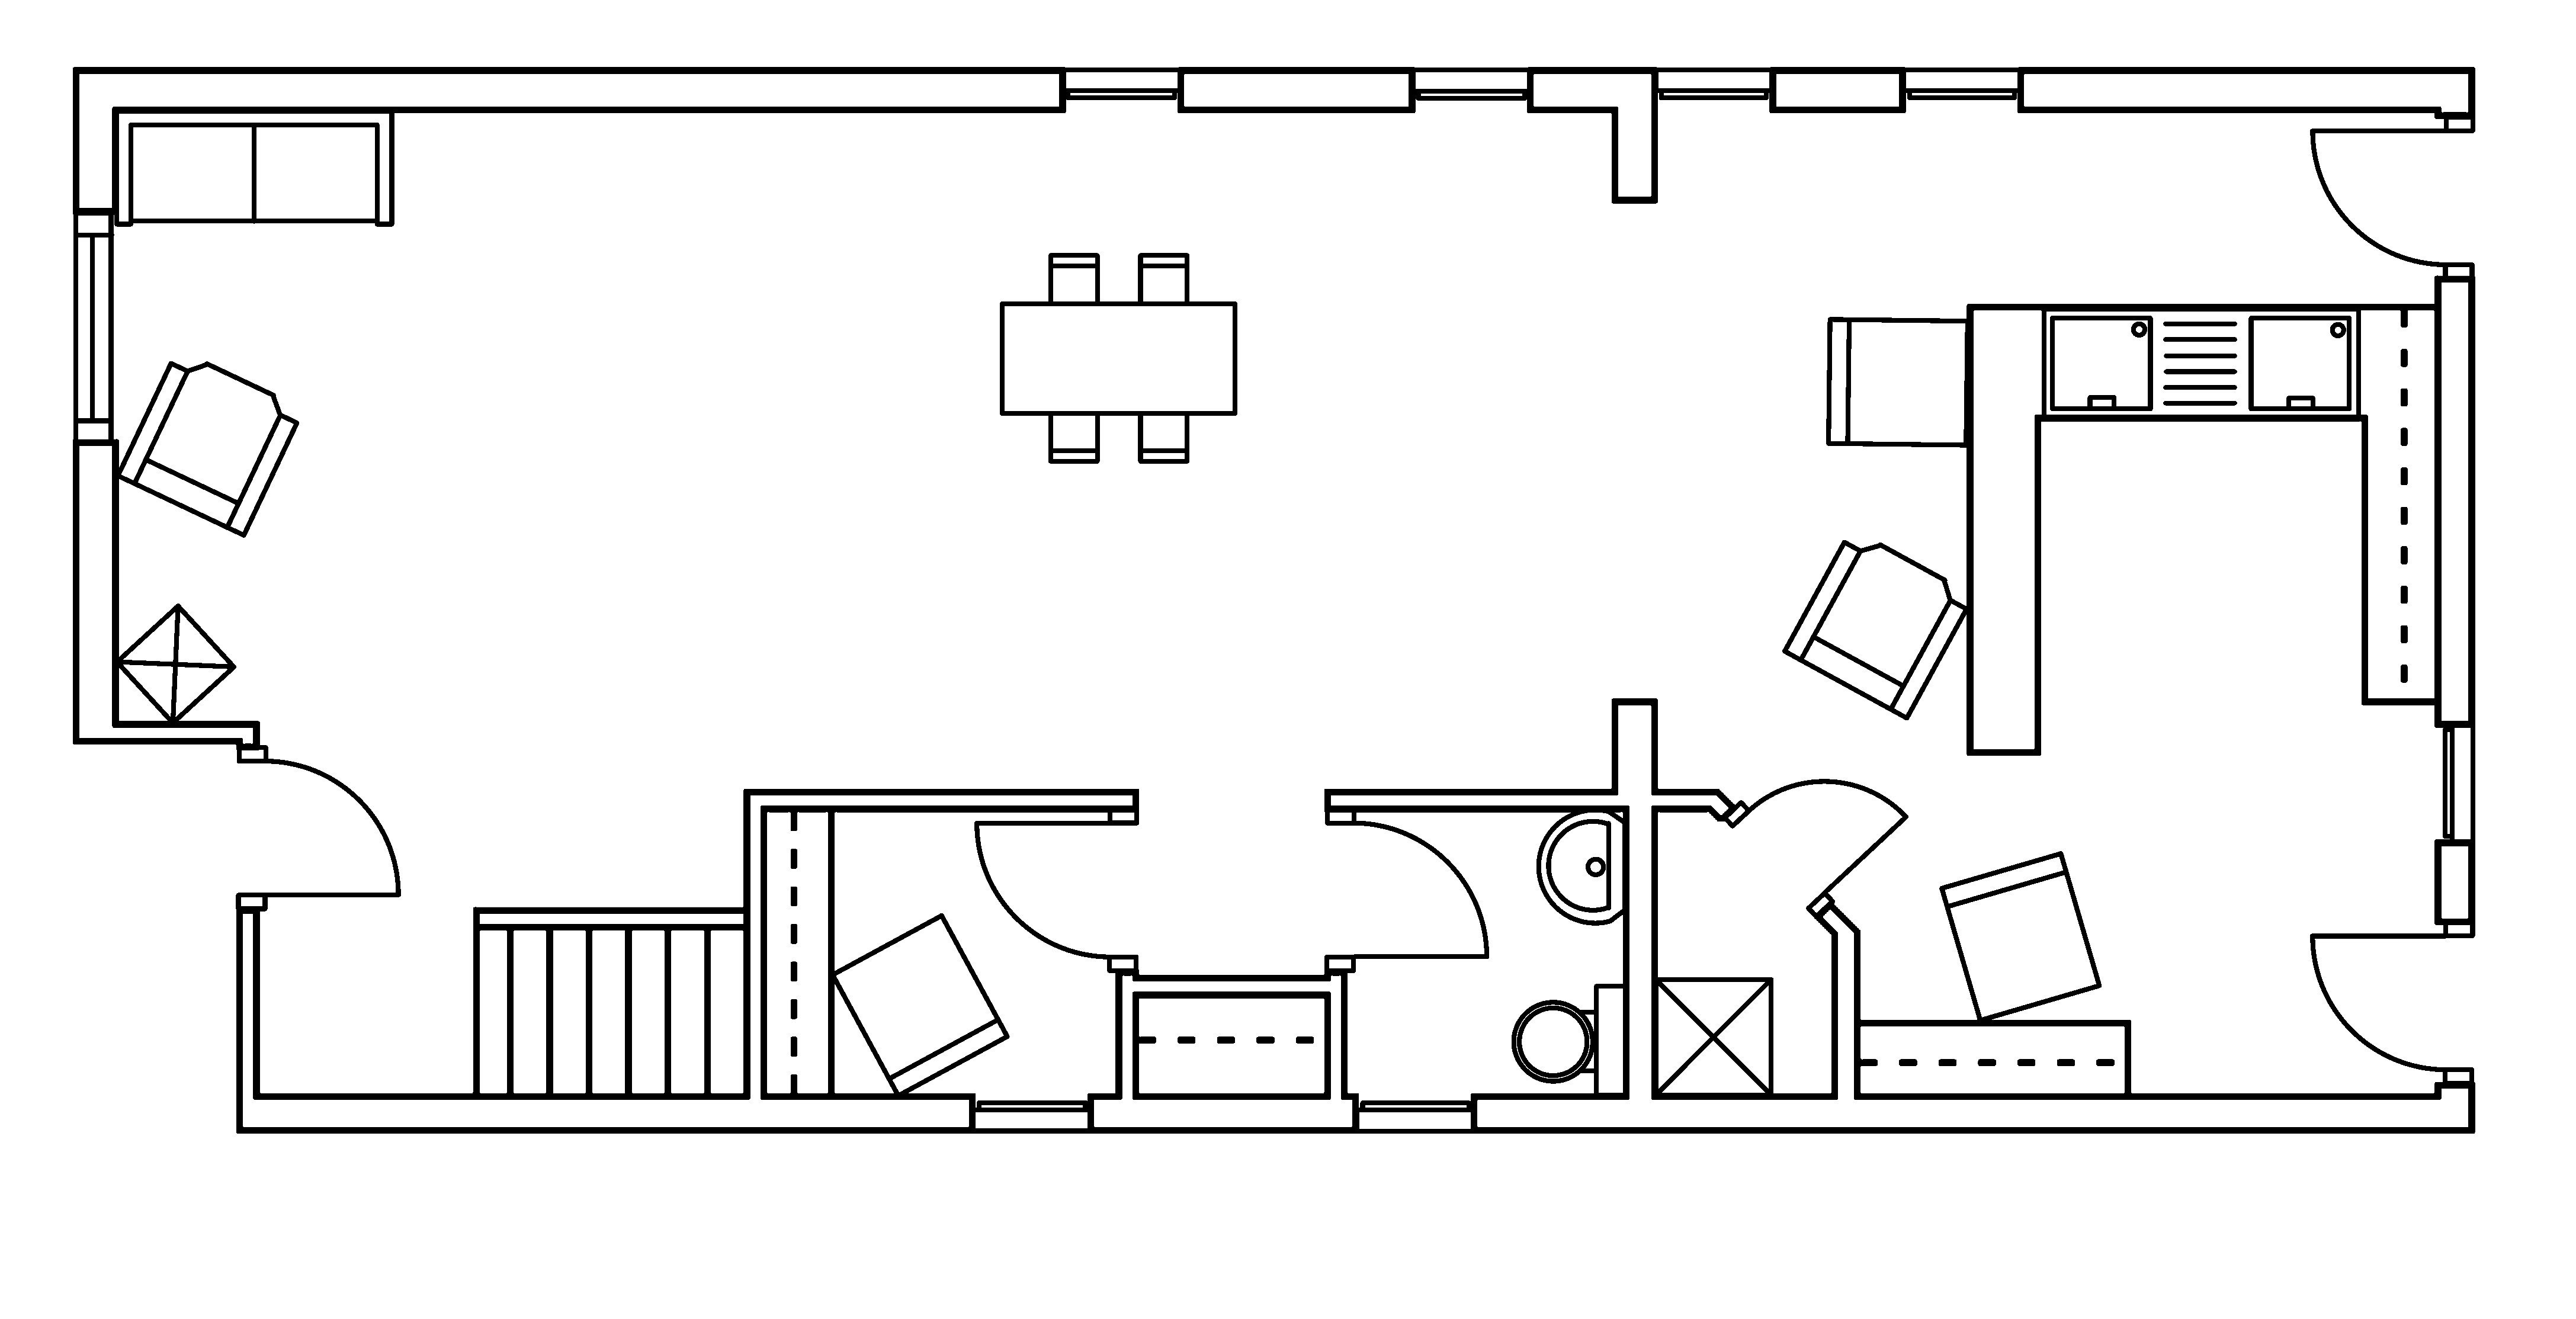armchair: (1781, 538, 1969, 720), (114, 360, 299, 538)
coffee_table: (113, 602, 237, 725), (1651, 976, 1774, 1097)
dining_table: (999, 252, 1238, 464)
large_sink: (1512, 983, 1628, 1097)
large_sofa: (113, 108, 395, 227)
small_sink: (1535, 808, 1628, 925)
small_sofa: (829, 912, 1011, 1099), (1939, 850, 2102, 1023), (1824, 316, 1971, 448)
twin_sink: (2040, 305, 2361, 421)
